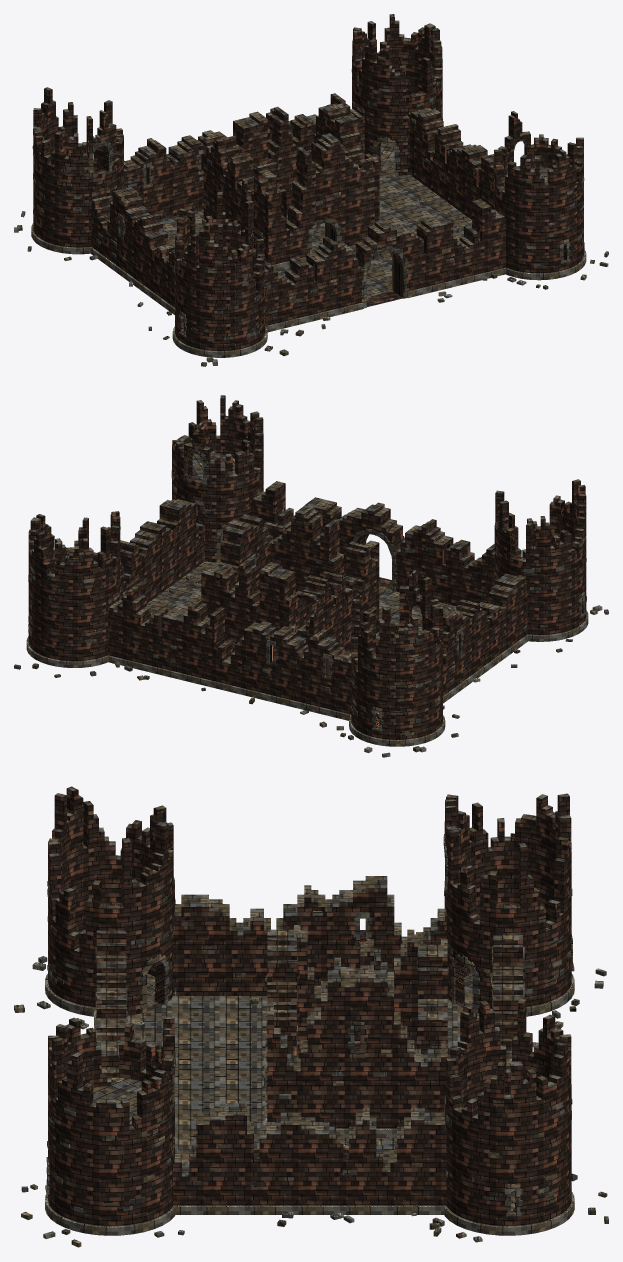
The model's file is dungeon_castle_ruin.glb.
The picture shows the model from 3 angles, top to bottom: view 1: azimuth 30°, elevation 25°; view 2: azimuth 150°, elevation 25°; view 3: azimuth 270°, elevation 25°; orthographic projection. The views are drawn at different scales.
Visible parts, largest first — view 1: Procedural_Level_Castle; view 2: Procedural_Level_Castle; view 3: Procedural_Level_Castle.
Part boxes in pixels (x1,y1,x2,y2): Procedural_Level_Castle: [14, 14, 608, 366]; Procedural_Level_Castle: [14, 395, 608, 757]; Procedural_Level_Castle: [14, 786, 608, 1247].
Bounding box in the file's own units: 35.33 × 10.66 × 29.99.
Materials: 2 (2 with a texture image).
